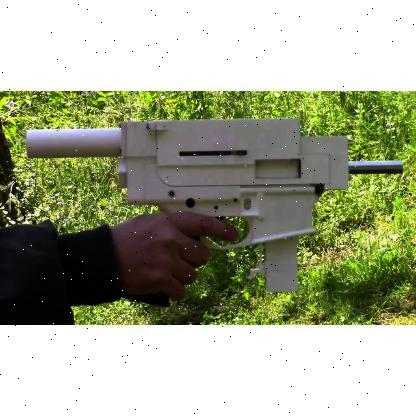gun: (25, 112, 393, 302)
